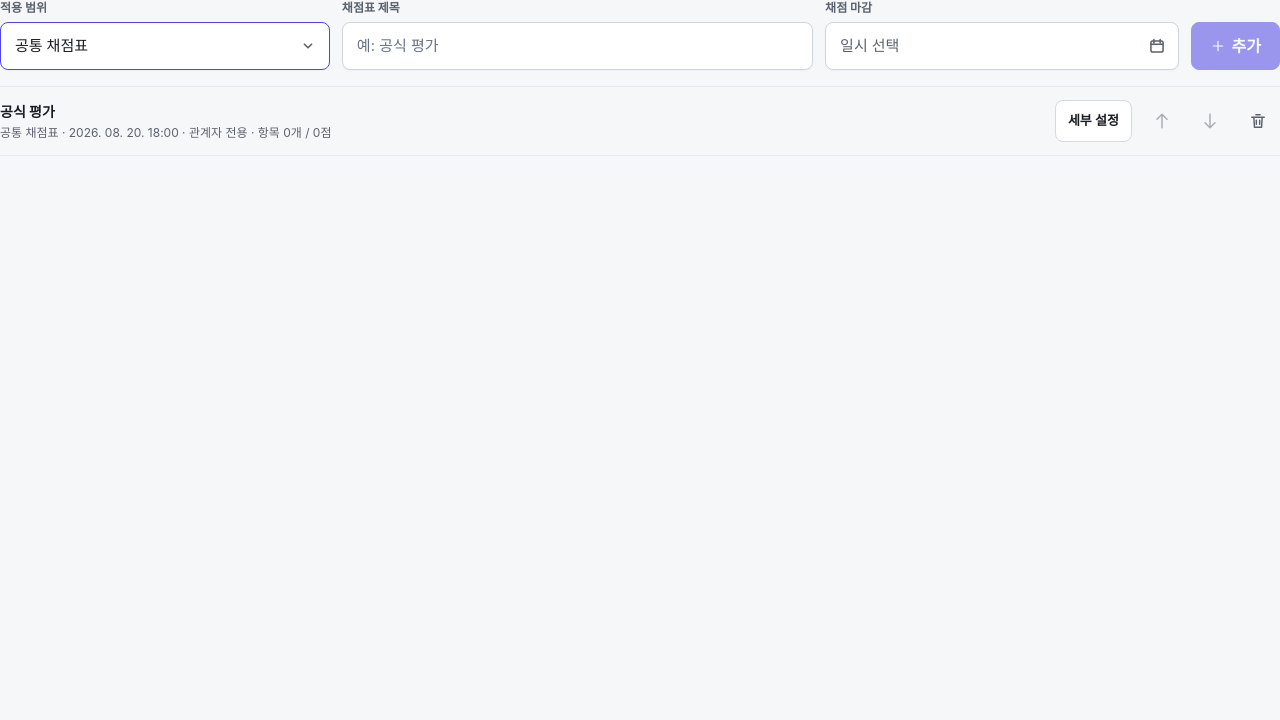
Test: ProgramCreateRubricBuilder › 평가 항목이 없는 채점표는 모달에서 저장할 수 없다
Click the button "세부 설정" at (1093, 121), box [1055,100,1132,142]
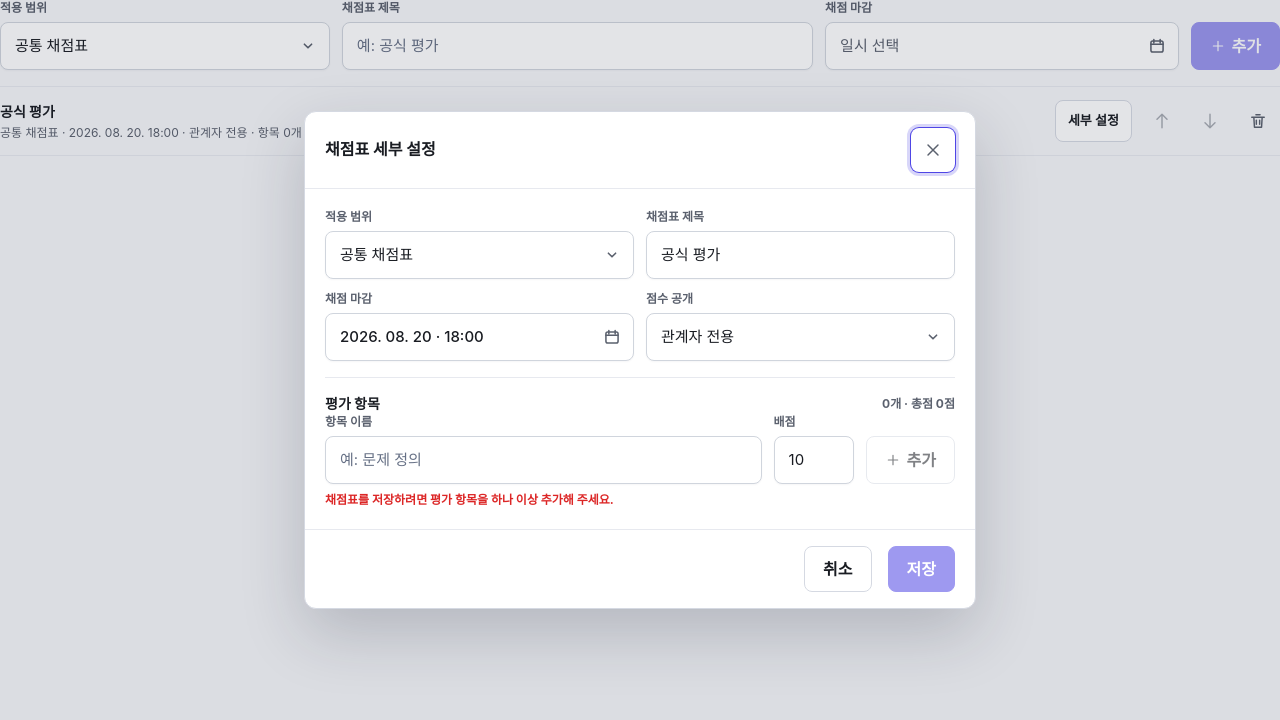
expect the button "저장" is disabled: met, box [888,546,955,592]
expect the message reads "채점표를 저장하려면 평가 항목을 하나 이상 추가해 주세요.": met, box [325,492,614,507]
